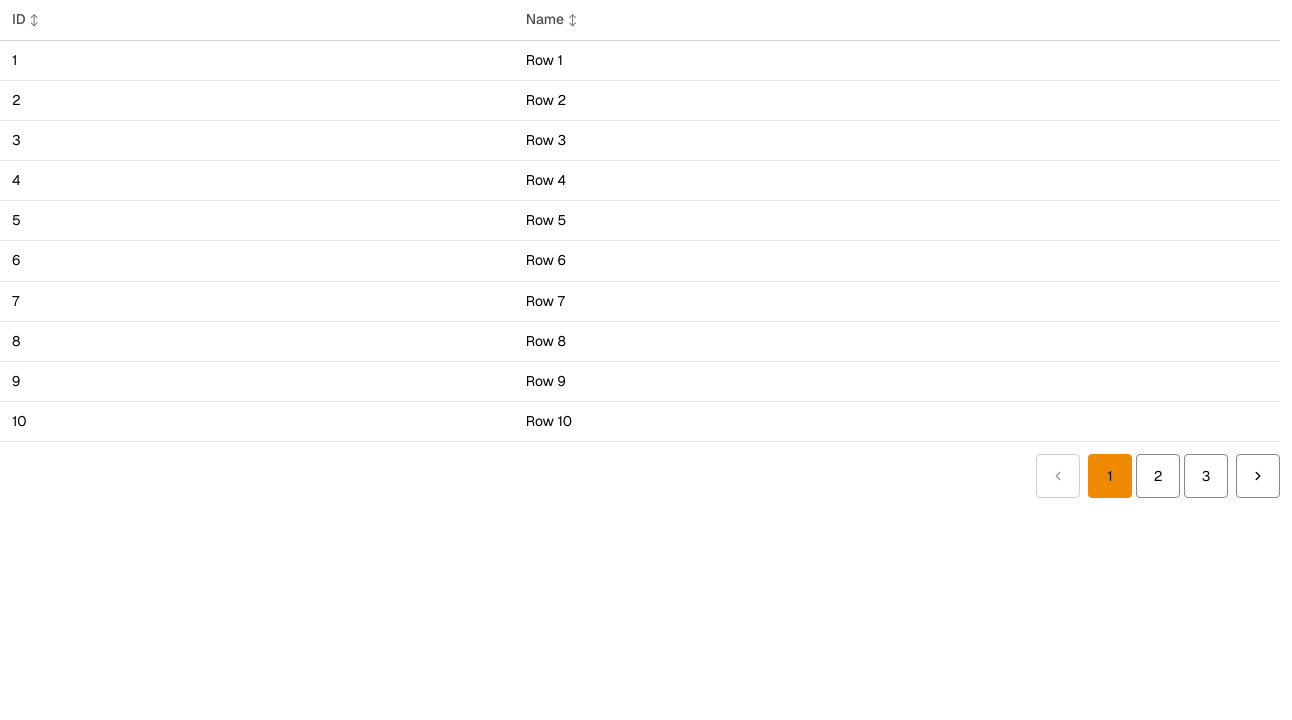
Test: Table › paginates via TanStack row models: page 1 and the last page show different, correct rows
Expected: the cell "Row 1" is shown, [514, 40, 1280, 81]
Expected: the cell "Row 10" is shown, [514, 401, 1280, 441]
Click the button named "Page 3": [1206, 476] box [1184, 454, 1228, 498]
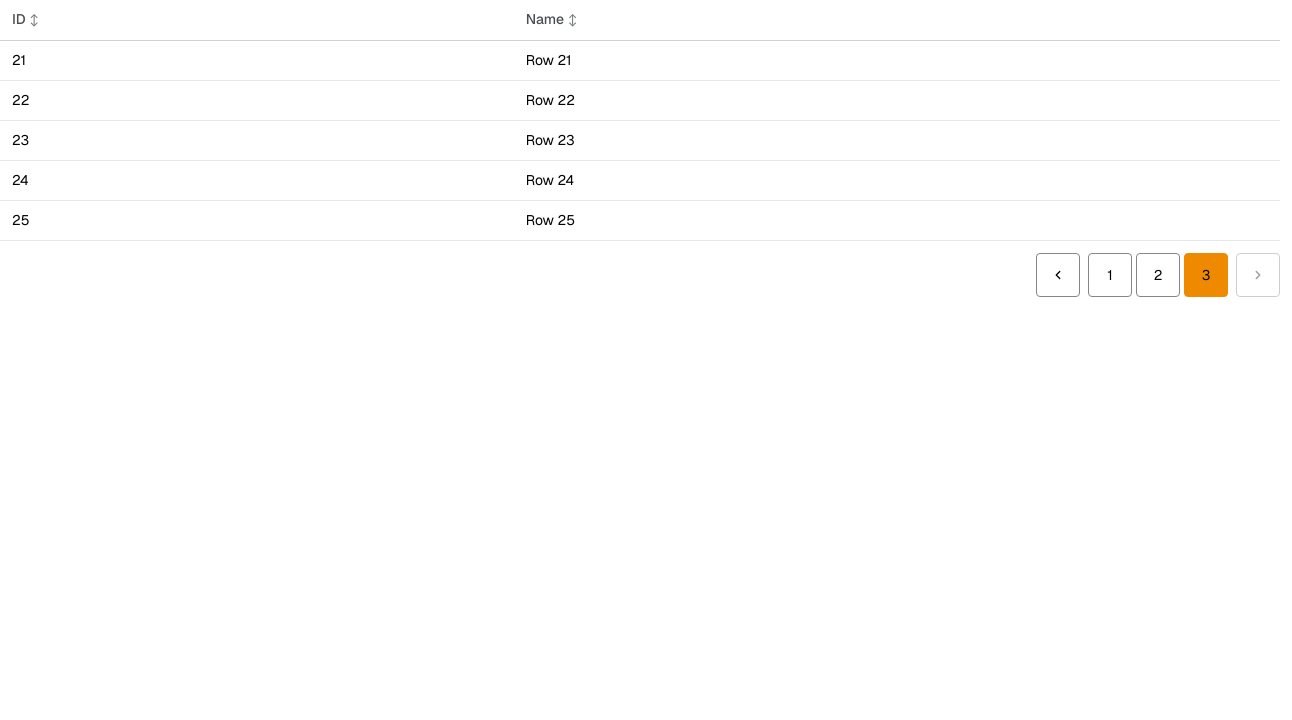
Expected: the cell "Row 21" is shown, [514, 40, 1280, 81]
Expected: the cell "Row 25" is shown, [514, 201, 1280, 241]
Expected: the button named "Next page" is disabled, [1236, 254, 1280, 298]
